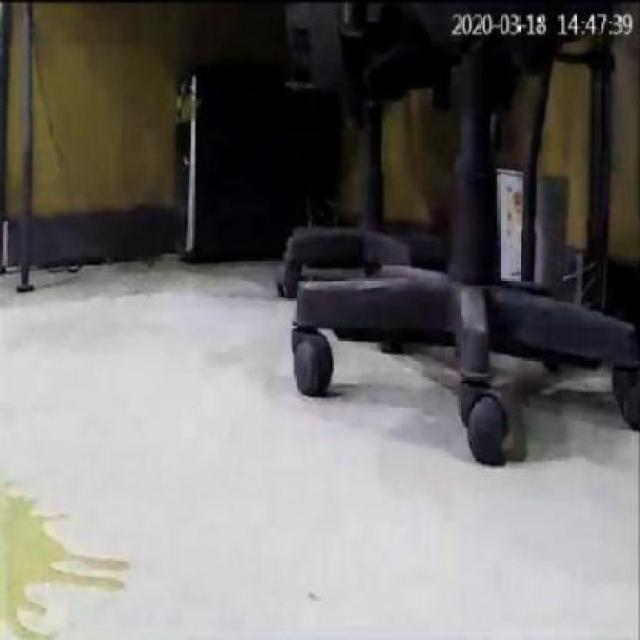spillage: (0, 489, 125, 640)
